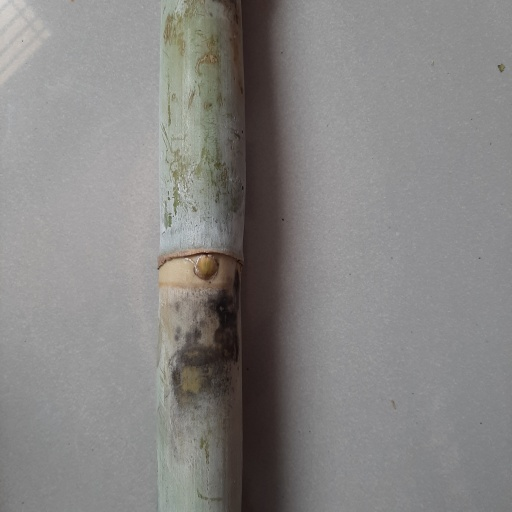Bud: (191, 252, 221, 283)
